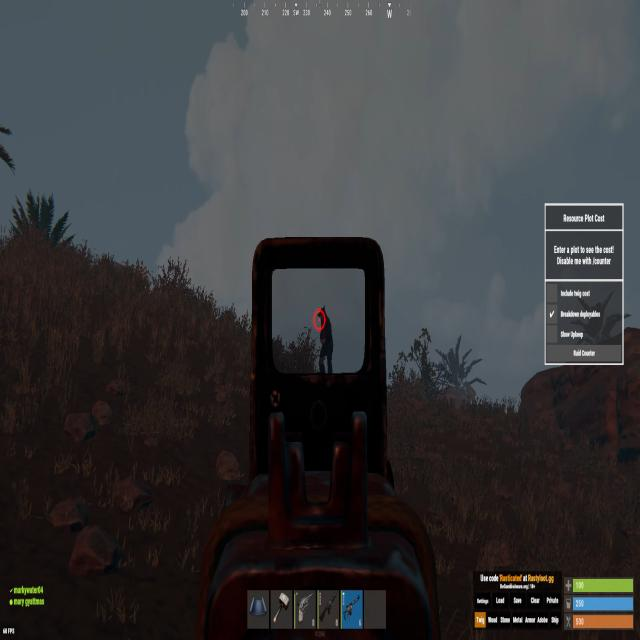Player: (316, 303, 336, 373)
